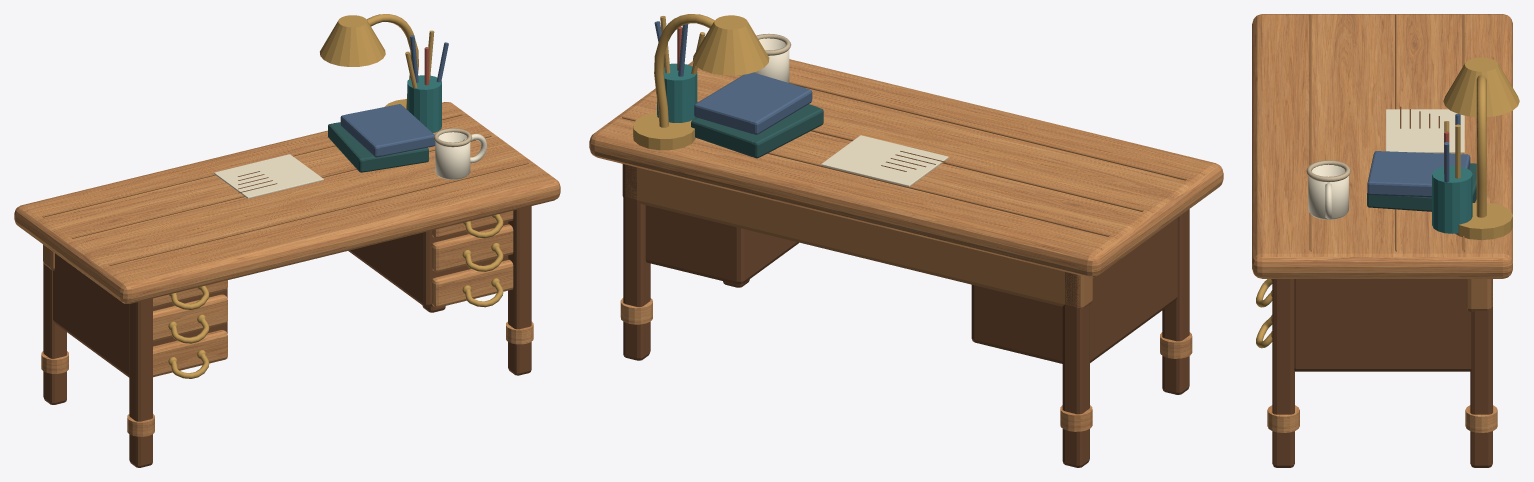
The picture shows the model from 3 angles, left to right: view 1: azimuth 30°, elevation 25°; view 2: azimuth 150°, elevation 25°; view 3: azimuth 270°, elevation 25°; orthographic projection. The views are drawn at different scales.
Parts seen in each view (by area): view 1: loft_oak, loft_wood_dark, loft_brass, loft_blue, loft_paper, loft_wood, loft_teal_dark, loft_cream, loft_teal; view 2: loft_oak, loft_wood_dark, loft_wood, loft_brass, loft_blue, loft_paper, loft_teal_dark, loft_teal, loft_cream; view 3: loft_oak, loft_wood_dark, loft_brass, loft_blue, loft_paper, loft_teal, loft_wood, loft_cream, loft_teal_dark, loft_ceramic, loft_ochre.
Part boxes in pixels (bbox=[...]): loft_oak: bbox=[14, 102, 560, 436]; loft_wood_dark: bbox=[43, 171, 531, 467]; loft_brass: bbox=[168, 14, 503, 378]; loft_blue: bbox=[340, 35, 448, 157]; loft_paper: bbox=[214, 154, 323, 198]; loft_wood: bbox=[42, 113, 528, 270]; loft_teal_dark: bbox=[328, 122, 428, 172]; loft_cream: bbox=[435, 132, 486, 179]; loft_teal: bbox=[407, 75, 441, 132]; loft_oak: bbox=[589, 59, 1223, 431]; loft_wood_dark: bbox=[623, 151, 1189, 467]; loft_wood: bbox=[622, 82, 1186, 308]; loft_brass: bbox=[633, 14, 769, 150]; loft_blue: bbox=[654, 21, 812, 134]; loft_paper: bbox=[821, 135, 948, 186]; loft_teal_dark: bbox=[691, 104, 823, 158]; loft_teal: bbox=[657, 63, 697, 122]; loft_cream: bbox=[753, 38, 789, 82]; loft_oak: bbox=[1252, 14, 1512, 432]; loft_wood_dark: bbox=[1272, 106, 1492, 467]; loft_brass: bbox=[1256, 57, 1519, 348]; loft_blue: bbox=[1367, 114, 1470, 197]; loft_paper: bbox=[1386, 109, 1464, 153]; loft_teal: bbox=[1432, 165, 1472, 233]; loft_wood: bbox=[1309, 14, 1492, 311]; loft_cream: bbox=[1308, 164, 1348, 219]; loft_teal_dark: bbox=[1367, 163, 1476, 211]; loft_ceramic: bbox=[1306, 160, 1350, 182]; loft_ochre: bbox=[1444, 121, 1460, 178].
Size of the model in its own units: 2.6 by 1.74 by 1.19.
Materials: 14 (1 with a texture image).
